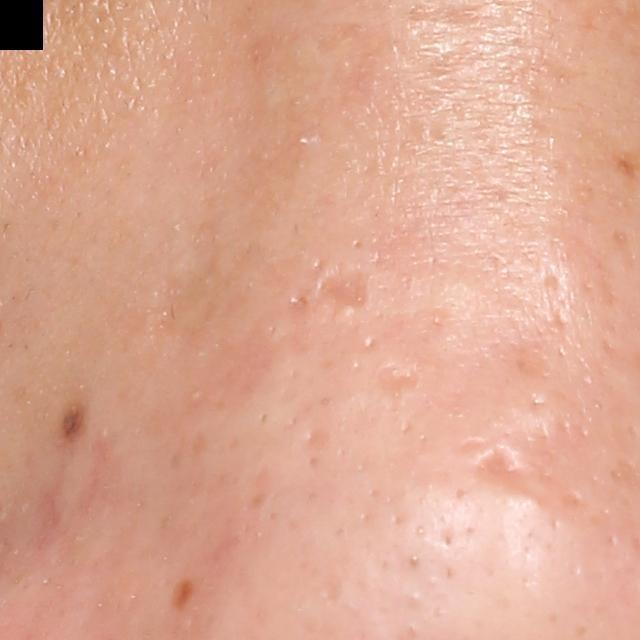atrophic_scar: (313, 264, 384, 323), (491, 331, 558, 382), (465, 444, 529, 494), (375, 360, 424, 397), (297, 424, 330, 454)
nevus: (58, 398, 91, 443), (172, 575, 195, 611)
